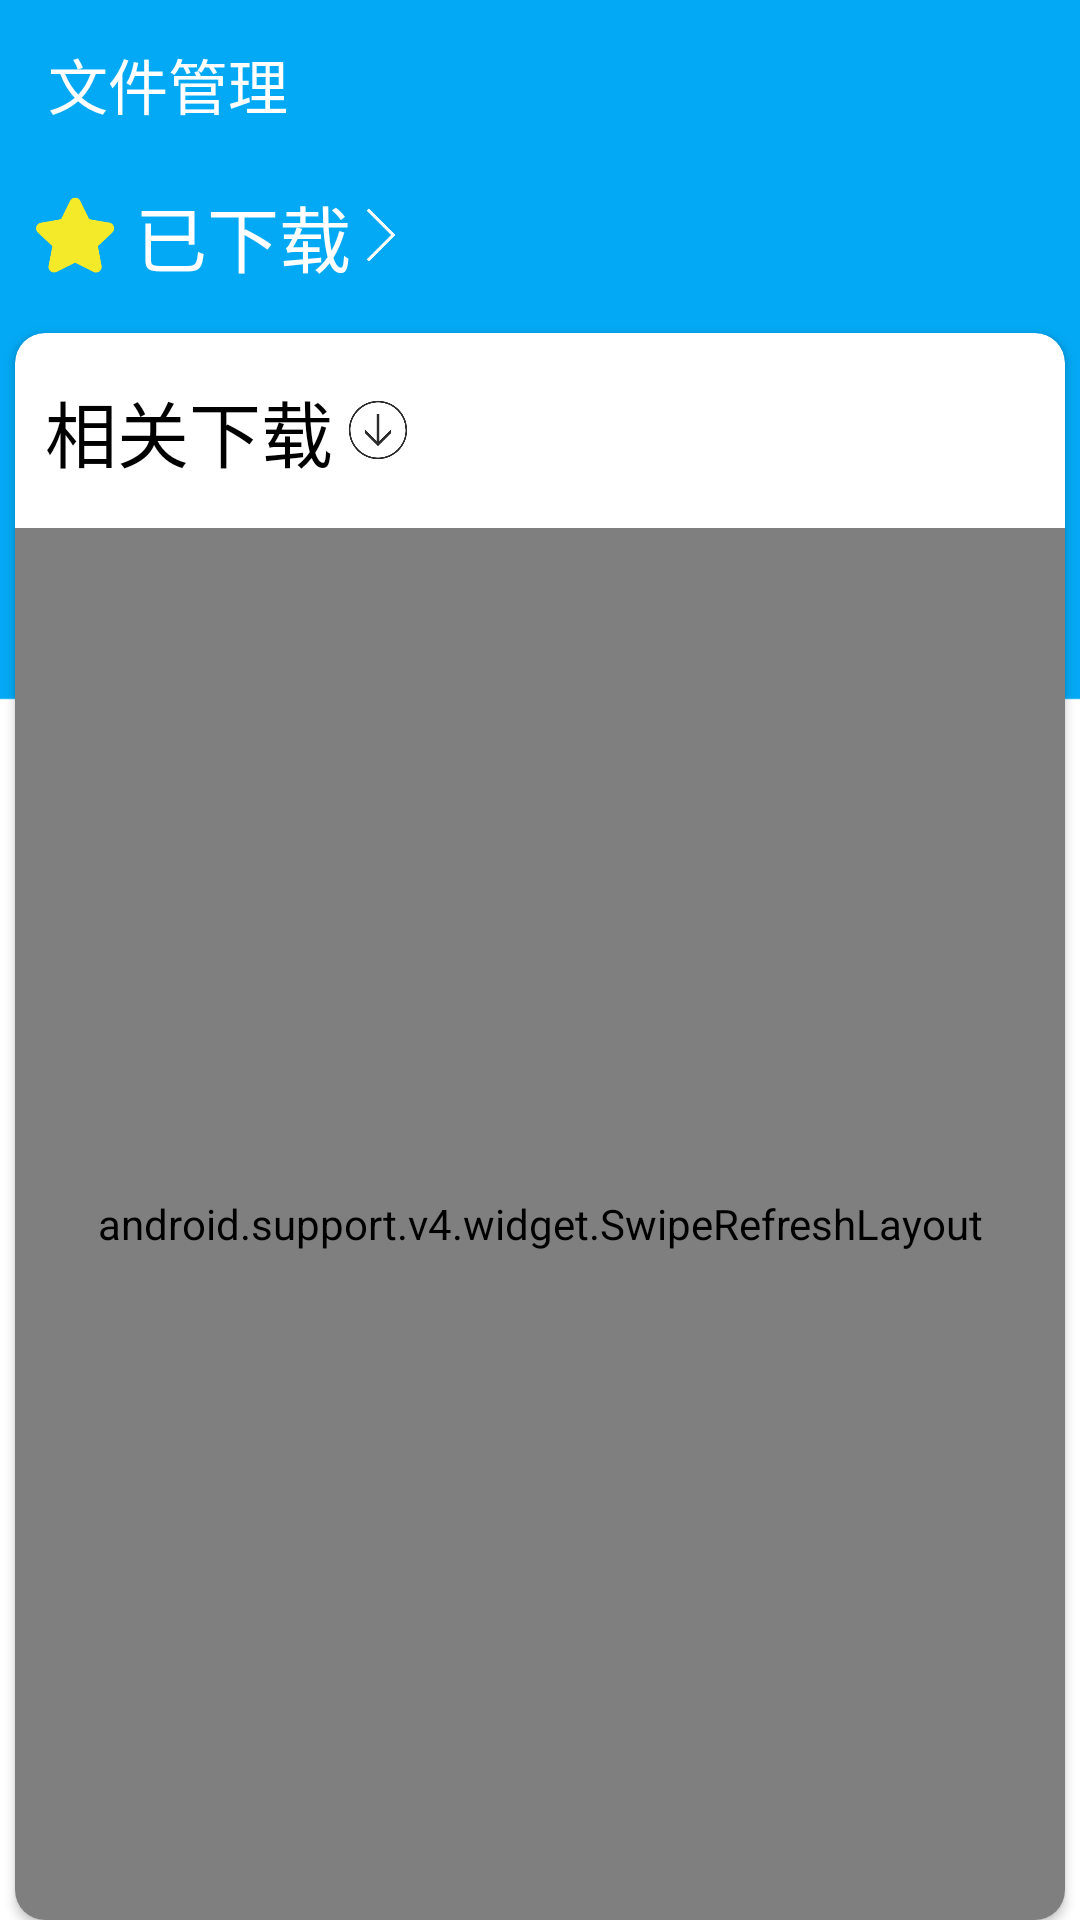

Screen size 1080*1920. Icon name, then its center in pixels as (x,y):
downloading: (378,430)
